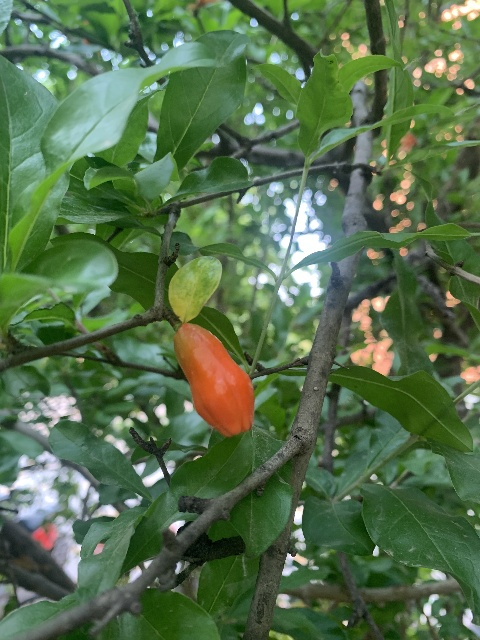bud: (173, 321, 254, 437)
